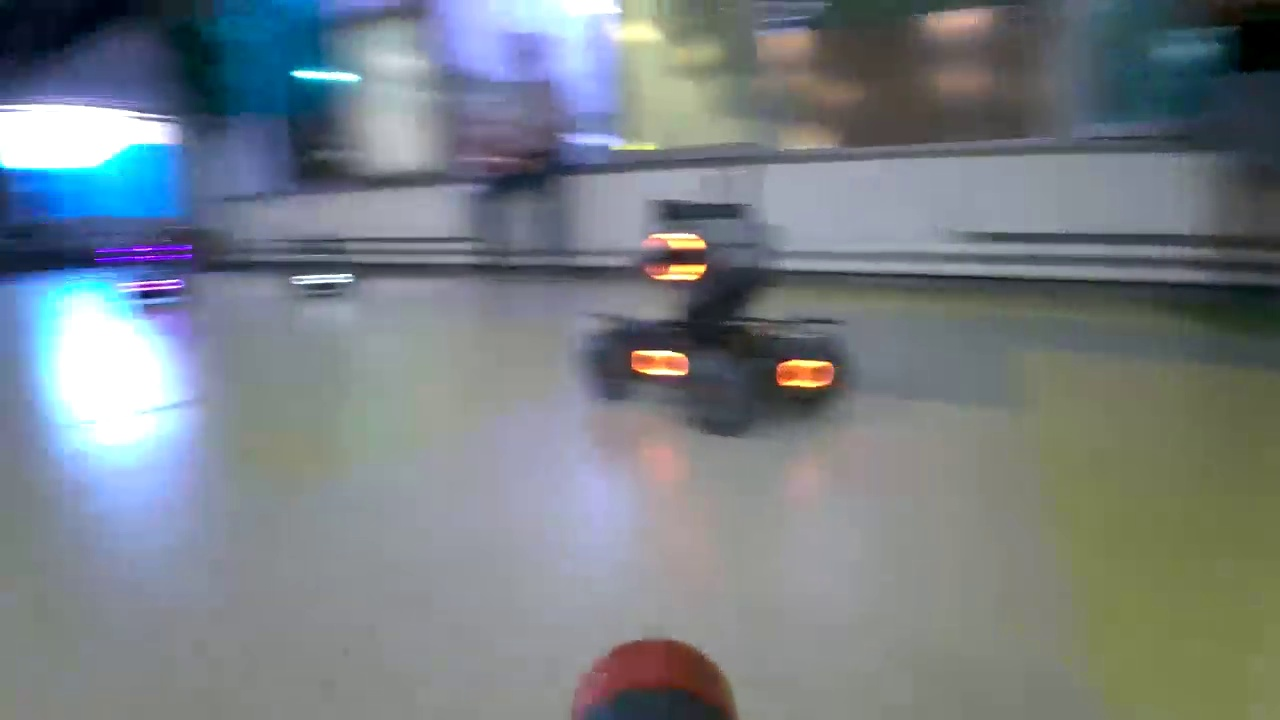robot: (580, 208, 854, 437), (96, 243, 192, 302), (289, 241, 356, 297)
